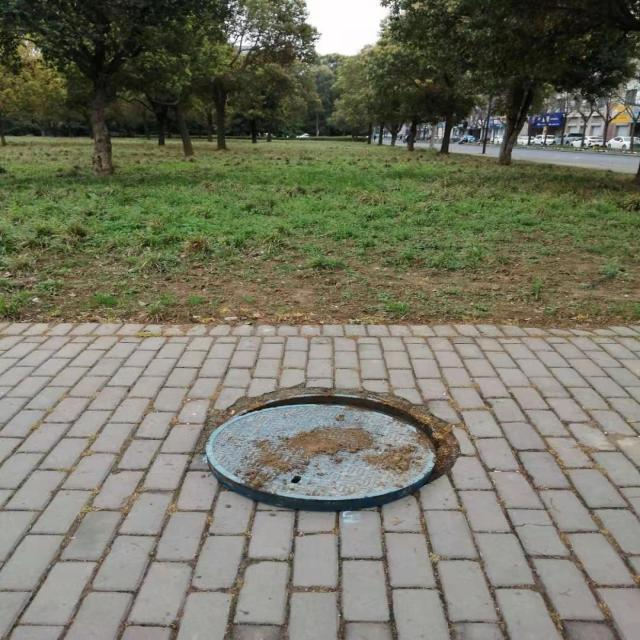Faulty: (204, 388, 447, 507)
